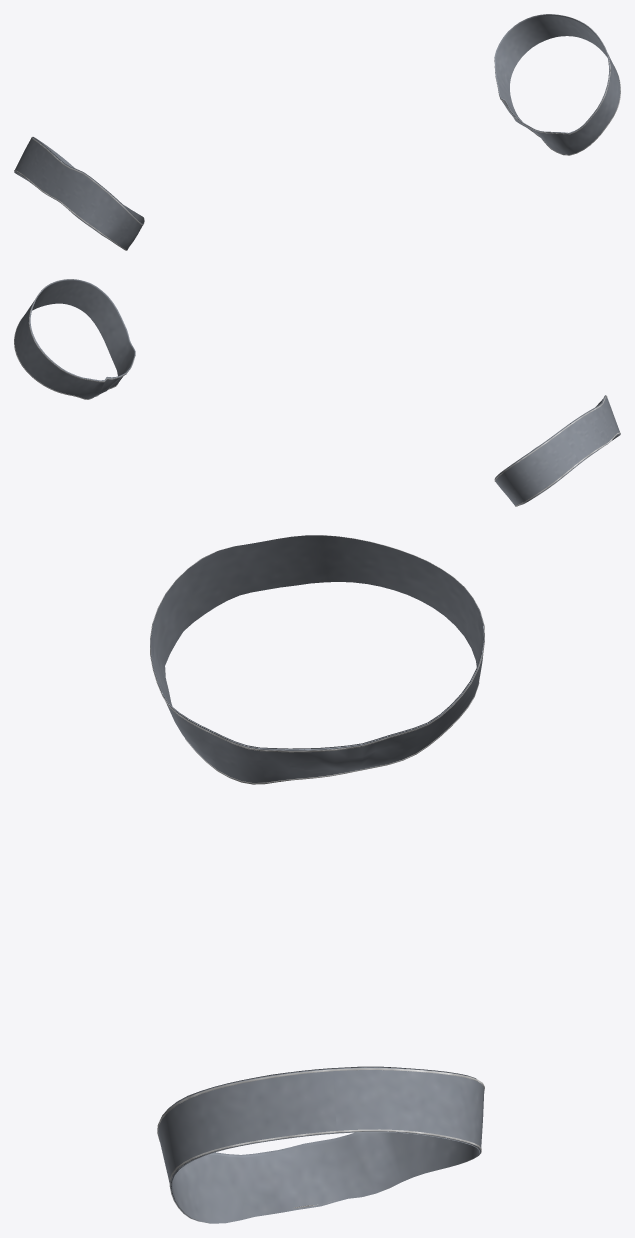
The model's file is Jac_Flic_Full.glb.
3 renders of one model, top to bottom at view 1: azimuth 30°, elevation 25°; view 2: azimuth 150°, elevation 25°; view 3: azimuth 270°, elevation 25°, orthographic. The views are drawn at different scales.
Visible parts, largest first — view 1: Jac_Flic_Full.001, Jac_Rope_Flic_Full.001; view 2: Jac_Flic_Full.001, Jac_Rope_Flic_Full.001; view 3: Jac_Flic_Full.001, Jac_Rope_Flic_Full.001.
Boxes of the visible parts, <box> form: Jac_Flic_Full.001: <box>14,14,620,249</box>; Jac_Rope_Flic_Full.001: <box>14,14,620,250</box>; Jac_Flic_Full.001: <box>14,279,620,506</box>; Jac_Rope_Flic_Full.001: <box>14,279,620,506</box>; Jac_Flic_Full.001: <box>150,535,484,1223</box>; Jac_Rope_Flic_Full.001: <box>150,535,484,1223</box>.
Bounding box in the file's own units: 1.2 × 0.2143 × 0.3084.
Materials: 2 (2 with a texture image).
